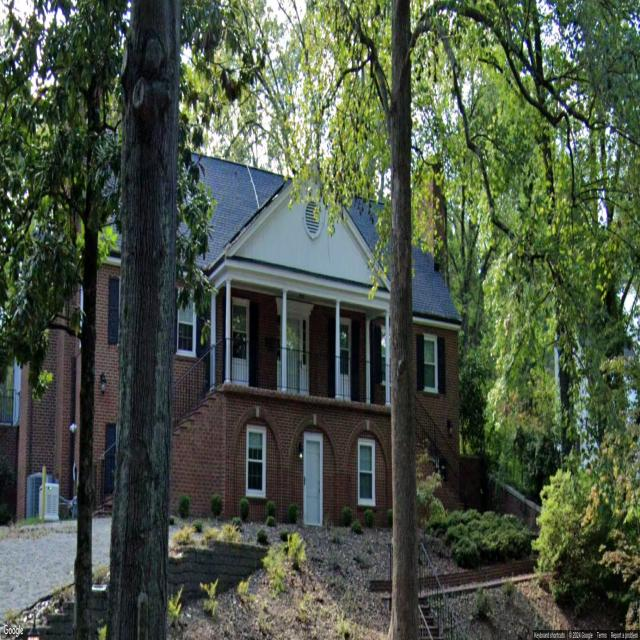House: (0, 133, 464, 530)
